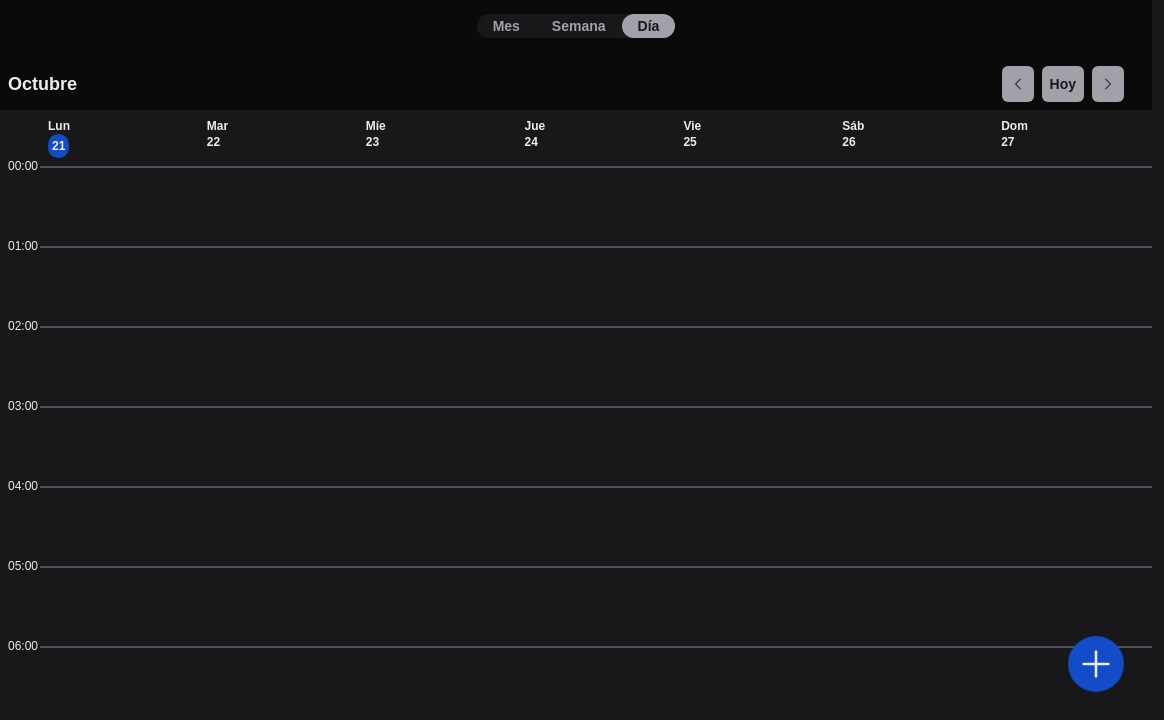
Test case: Calendar › select previous day
The width and height of the screenshot is (1164, 720).
Click the button named "previous calendar page".
click(1018, 84)  # box [1002,66,1034,102]
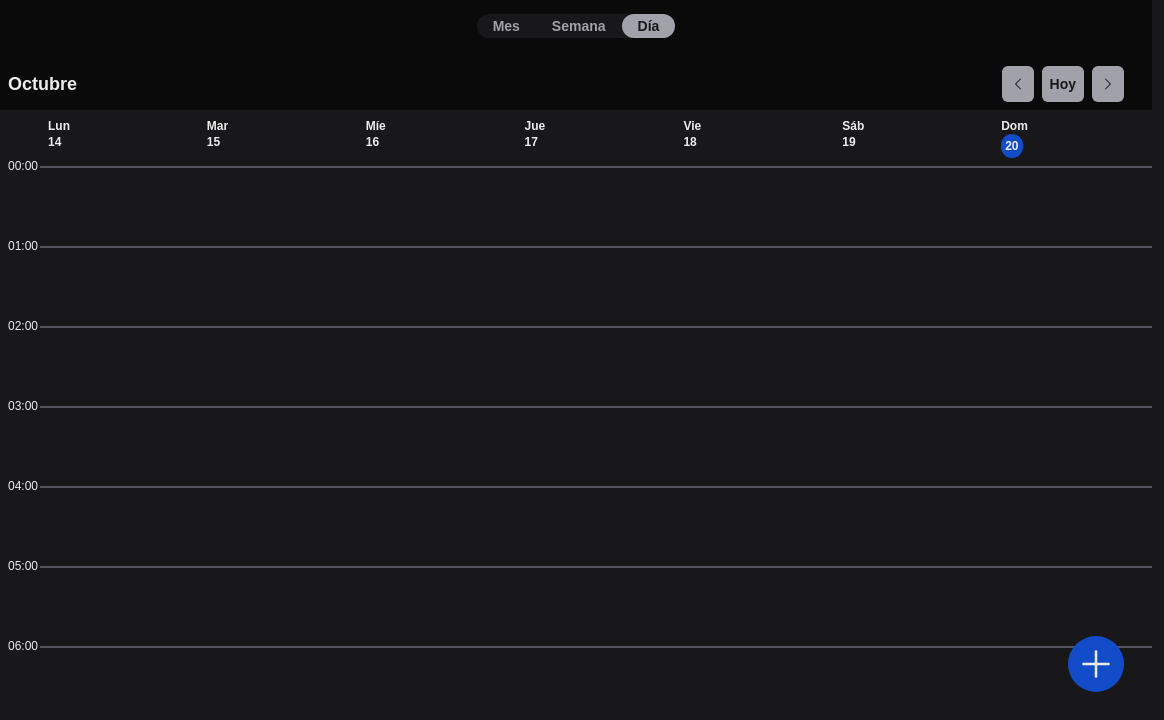
Expected: the text with test id "active-day" reads "20", [1005,139,1018,153]
